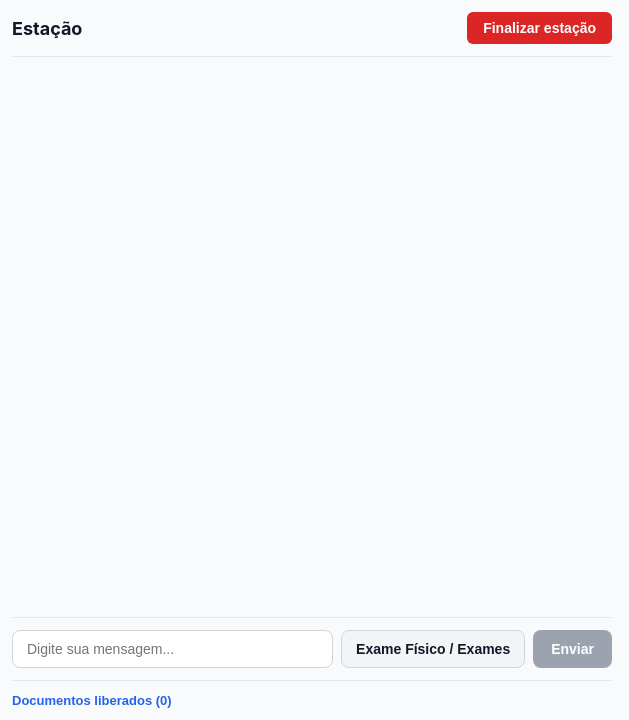
StationScreen › renders multiple conversation turns in order
This screenshot has width=629, height=720.
First turn
Step 1. Type "Turn 1" into the field with test id "message-input" → (173, 649), box top-left (12, 630), bottom-right (333, 668)
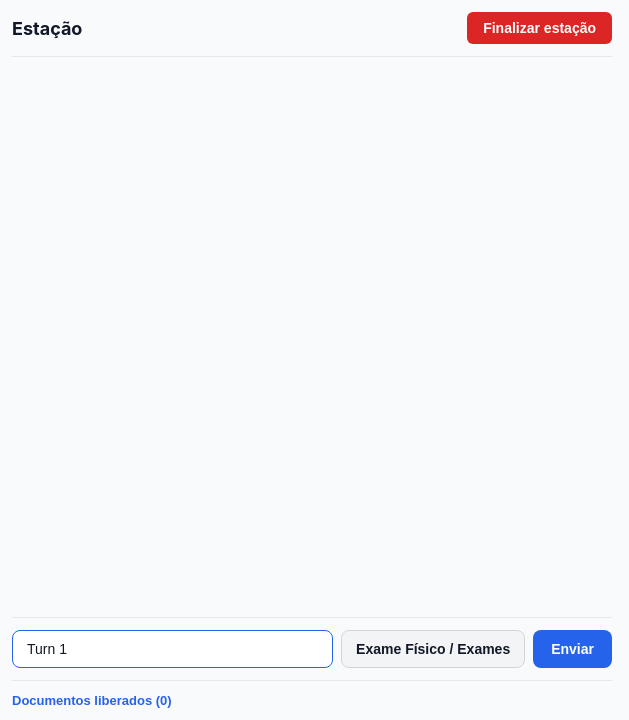
Step 2. Click the button with test id "send-button" → click(573, 649), box top-left (533, 630), bottom-right (612, 668)
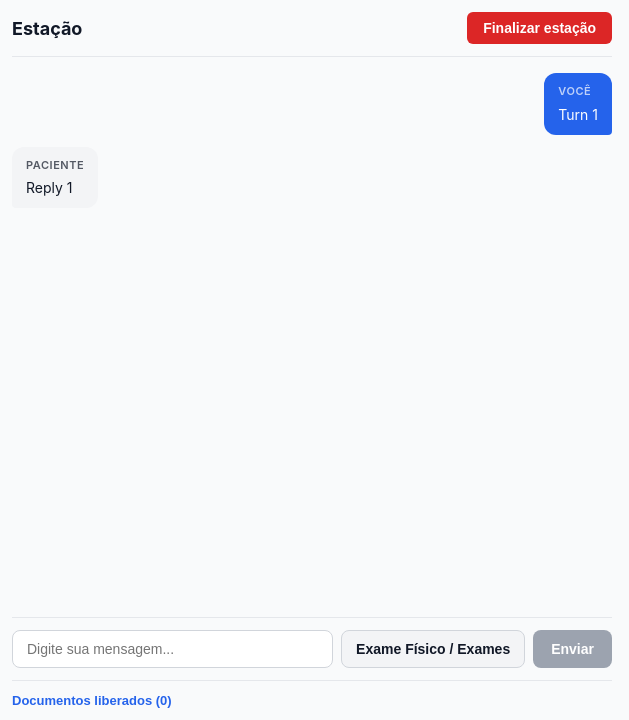
Check: the text "Reply 1" is shown, box top-left (26, 179), bottom-right (72, 196)
Second turn
Step 3. Type "Turn 2" into the field with test id "message-input" → (173, 649), box top-left (12, 630), bottom-right (333, 668)
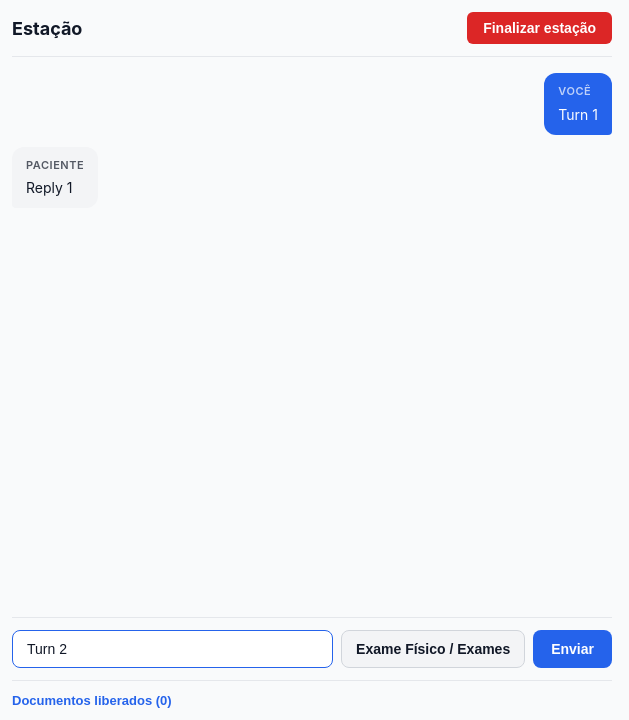
Step 4. Click the button with test id "send-button" → click(573, 649), box top-left (533, 630), bottom-right (612, 668)
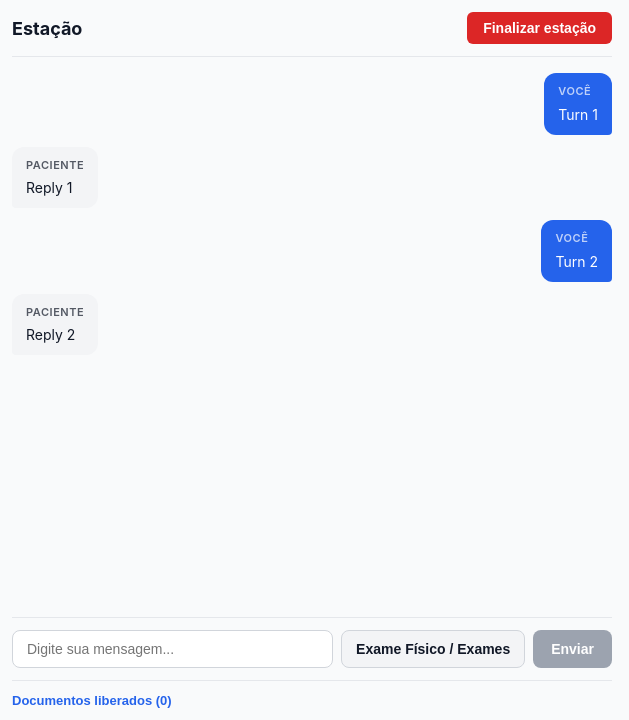
Check: the text "Reply 2" is shown, box top-left (26, 326), bottom-right (75, 343)
